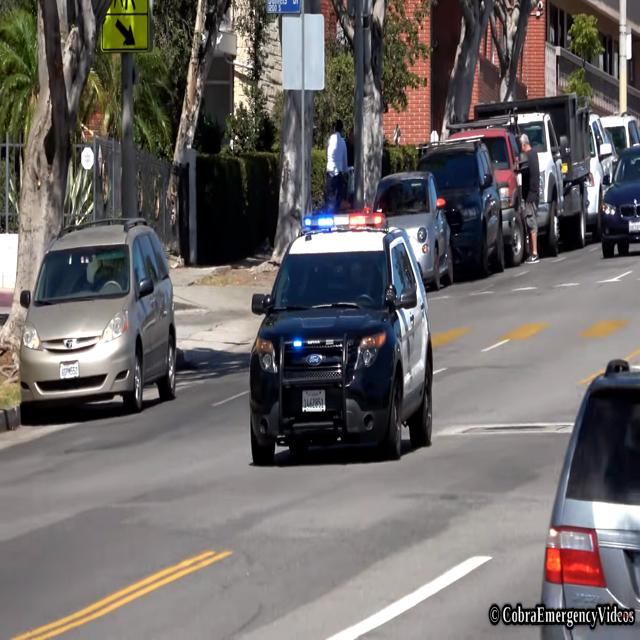emergency-vehicles: (226, 199, 458, 481)
